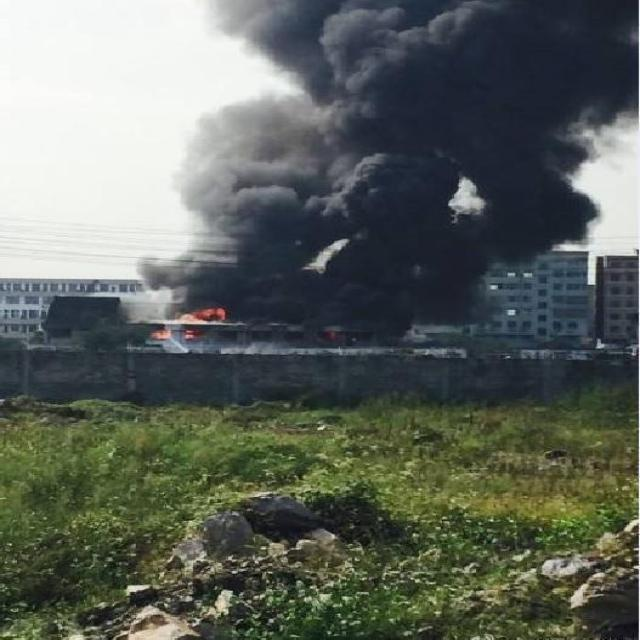fire: (144, 300, 236, 348)
smoke: (117, 0, 638, 318)
